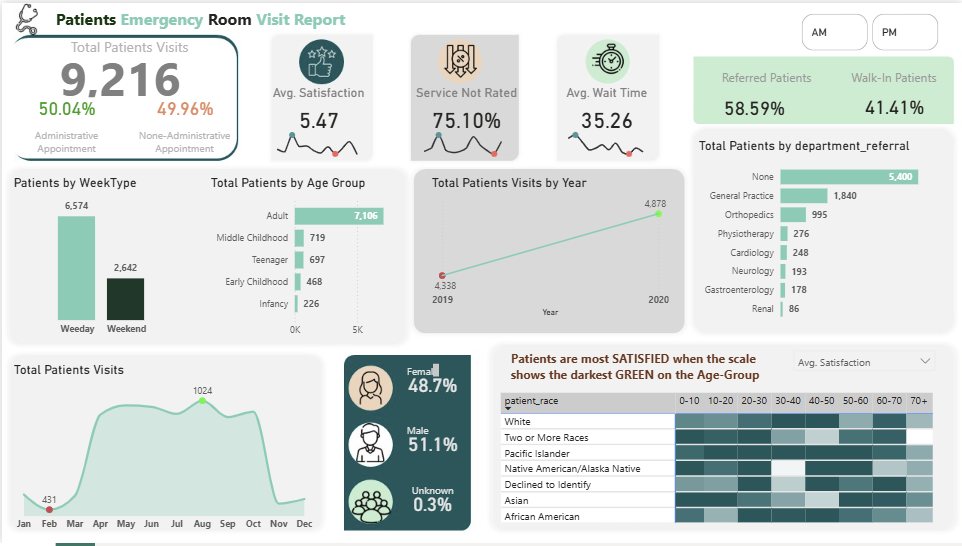

What the dashboard file says about the page in this screenshot:
{"tool":"powerbi","page":{"name":"Page 1","canvas":[1280,720],"ordinal":0},"visuals":[{"type":"card","fields":{"Values":["Calculations.Total Patients"]},"box":[23.1,62.1,269.6,68.3],"z":0},{"type":"card","fields":{"Values":["Calculations.% Administrative Schedule"]},"box":[41.9,117.7,89.8,45.9],"z":1000},{"type":"card","fields":{"Values":["Calculations.% None - Administrative Schedule"]},"box":[199.5,118.8,88.7,43.4],"z":2000},{"type":"pivotTable","fields":{"Values":["Calculations.Average Satisfaction Score"],"Rows":["Patients Dataset.patient_race"],"Columns":["Patients Dataset.Age Buckets"]},"box":[660.6,514.3,593.2,190.6],"z":3000},{"type":"slicer","fields":{"Values":["Parameter.Parameter"]},"box":[1045.5,453.9,208.5,59.9],"z":4000},{"type":"clusteredBarChart","fields":{"Category":["Patients Dataset.Age Group"],"Y":["Calculations.Total Patients"]},"box":[273.4,229.5,281.3,224.5],"z":5000},{"type":"areaChart","title":"Total Patients Visits","fields":{"Category":["Date.Month"],"Y":["Calculations.Total Patients","Calculations.Values Max Point (Month)"]},"box":[11,478.9,411,234.5],"z":6000},{"type":"advancedSlicerVisual","fields":{"Values":["Patients Dataset.Moment"]},"box":[1061.4,9.8,192.4,59.4],"z":7000},{"type":"lineChart","title":"Total Patients Visits by Year","fields":{"Category":["Date.Year"],"Y":["Calculations.Total Patients","Calculations.Values Max Point (Year)"]},"box":[568.4,229.7,326.3,194.2],"z":8000},{"type":"clusteredBarChart","fields":{"Y":["Calculations.Total Patients"],"Category":["Patients Dataset.department_referral"]},"box":[923.9,180,338.7,253.6],"z":9000},{"type":"card","fields":{"Values":["Calculations.% Referred Patients"]},"box":[1143,118.8,94.9,39.9],"z":10000},{"type":"card","fields":{"Values":["Calculations.% Un Referred Patients"]},"box":[951.4,123.3,102,34.6],"z":11000},{"type":"card","fields":{"Values":["Calculations.HitMap Caption"]},"box":[660.5,452.9,368.1,60.9],"z":12000},{"type":"textbox","box":[34.9,162.6,102.8,49.9],"z":13000},{"type":"textbox","box":[172.6,162.6,142.7,49.9],"z":14000},{"type":"card","title":"Avg. Satisfaction","fields":{"Values":["Calculations.Average Satisfaction Score"]},"box":[349.4,109.1,145.4,70.9],"z":15000},{"type":"card","title":"Avg. Wait Time","fields":{"Values":["Calculations.Average Wait Time"]},"box":[737.7,109.1,138.3,70.9],"z":16000},{"type":"card","title":"Service Not Rated","fields":{"Values":["Calculations.% No Rating"]},"box":[545.3,109.1,148.1,70.9],"z":17000},{"type":"textbox","box":[940.8,82.5,156.1,40.8],"z":18000},{"type":"clusteredColumnChart","title":"Patients by WeekType","fields":{"Y":["Calculations.Total Patients"],"Category":["Date.WeekType"]},"box":[11,229.5,245.4,223.5],"z":19000},{"type":"card","fields":{"Values":["Calculations.% Female Visit"]},"box":[528.5,490.3,92.2,35.5],"z":20000},{"type":"card","fields":{"Values":["Calculations.% Male Visit"]},"box":[528.5,570.1,92.2,34.6],"z":21000},{"type":"card","fields":{"Values":["Calculations.% Unknown"]},"box":[528.5,650,92.2,35.5],"z":22000},{"type":"textbox","box":[86.9,39.9,188,37.2],"z":23000},{"type":"PBI_CV_25997FEB_F466_44FA_B562_AC4063283C4C","fields":{"measure":["Calculations.Average Satisfaction Score"],"axis":["Date.Month"]},"box":[349.4,158.7,145.4,53.2],"z":24000},{"type":"PBI_CV_25997FEB_F466_44FA_B562_AC4063283C4C","fields":{"axis":["Date.Month"],"measure":["Calculations.% No Rating"]},"box":[545.3,158.7,141.9,53.2],"z":25000},{"type":"PBI_CV_25997FEB_F466_44FA_B562_AC4063283C4C","fields":{"axis":["Date.Month"],"measure":["Calculations.Average Wait Time"]},"box":[737.7,158.7,138.3,53.2],"z":26000},{"type":"textbox","box":[1116.4,82.5,146.3,47.9],"z":27000},{"type":"textbox","box":[534.7,476.2,53.2,27.5],"z":28000},{"type":"textbox","box":[534.7,556,53.2,27.5],"z":29000},{"type":"textbox","box":[541.8,635.8,74.5,27.5],"z":30000},{"type":"textbox","box":[66.5,0.9,561.3,39],"z":31000}]}

Visuals, with their boxes in screenshot pixels (x1, y1, x2, y2), scaled from the page's 1280x720 canvas onto the 962x546 screenshot:
card - Calculations.Total Patients: box=[17, 47, 220, 99]
card - Calculations.% Administrative Schedule: box=[31, 89, 99, 124]
card - Calculations.% None - Administrative Schedule: box=[150, 90, 217, 123]
pivotTable - Calculations.Average Satisfaction Score x Patients Dataset.patient_race: box=[496, 390, 942, 535]
slicer - Parameter.Parameter: box=[786, 344, 942, 390]
clusteredBarChart - Patients Dataset.Age Group x Calculations.Total Patients: box=[205, 174, 417, 344]
"Total Patients Visits" areaChart: box=[8, 363, 317, 541]
advancedSlicerVisual - Patients Dataset.Moment: box=[798, 7, 942, 52]
"Total Patients Visits by Year" lineChart: box=[427, 174, 672, 321]
clusteredBarChart - Calculations.Total Patients x Patients Dataset.department_referral: box=[694, 136, 949, 329]
card - Calculations.% Referred Patients: box=[859, 90, 930, 120]
card - Calculations.% Un Referred Patients: box=[715, 94, 792, 120]
card - Calculations.HitMap Caption: box=[496, 343, 773, 390]
textbox: box=[26, 123, 103, 161]
textbox: box=[130, 123, 237, 161]
"Avg. Satisfaction" card: box=[263, 83, 372, 136]
"Avg. Wait Time" card: box=[554, 83, 658, 136]
"Service Not Rated" card: box=[410, 83, 521, 136]
textbox: box=[707, 63, 824, 94]
"Patients by WeekType" clusteredColumnChart: box=[8, 174, 193, 344]
card - Calculations.% Female Visit: box=[397, 372, 466, 399]
card - Calculations.% Male Visit: box=[397, 432, 466, 459]
card - Calculations.% Unknown: box=[397, 493, 466, 520]
textbox: box=[65, 30, 207, 58]
PBI_CV_25997FEB_F466_44FA_B562_AC4063283C4C - Calculations.Average Satisfaction Score x Date.Month: box=[263, 120, 372, 161]
PBI_CV_25997FEB_F466_44FA_B562_AC4063283C4C - Date.Month x Calculations.% No Rating: box=[410, 120, 516, 161]
PBI_CV_25997FEB_F466_44FA_B562_AC4063283C4C - Date.Month x Calculations.Average Wait Time: box=[554, 120, 658, 161]
textbox: box=[839, 63, 949, 99]
textbox: box=[402, 361, 442, 382]
textbox: box=[402, 422, 442, 442]
textbox: box=[407, 482, 463, 503]
textbox: box=[50, 1, 472, 30]
